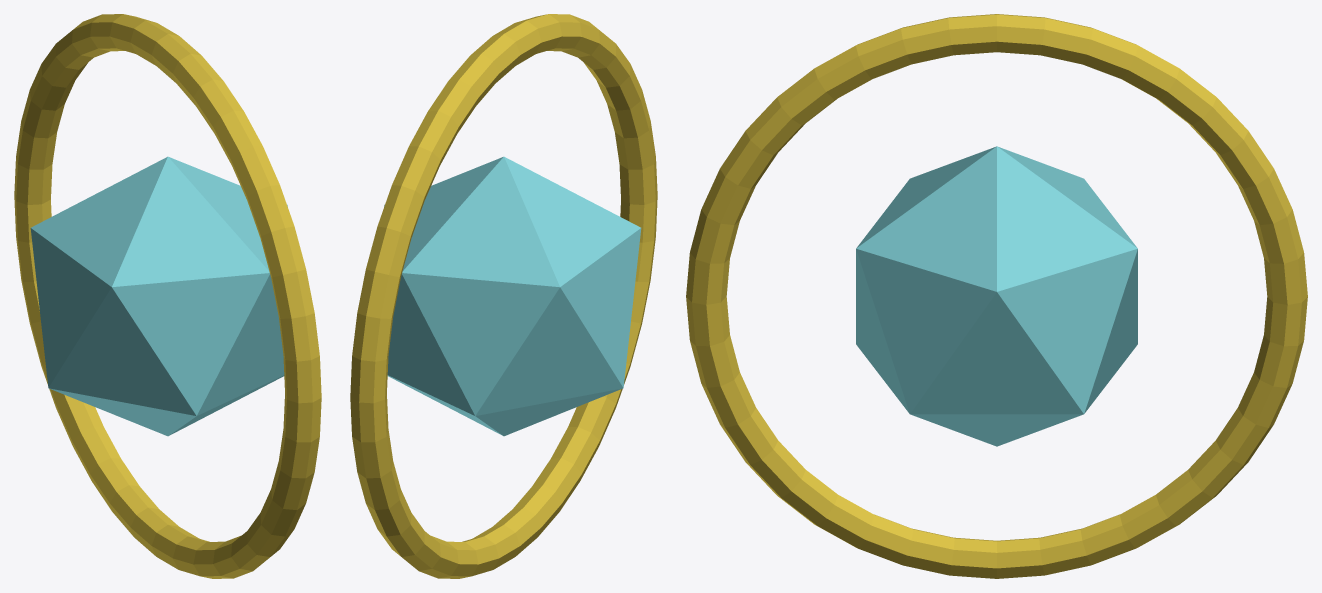
File: comet.gltf
3 views of the same model, side by side, from view 1: azimuth 30°, elevation 25°; view 2: azimuth 150°, elevation 25°; view 3: azimuth 270°, elevation 25° (orthographic). The views are drawn at different scales.
Parts seen in each view (by area): view 1: Torus.006; view 2: Torus.006; view 3: Torus.006.
Part boxes in pixels (x1=…): Torus.006: x1=14, y1=14, x2=321, y2=578; Torus.006: x1=350, y1=14, x2=657, y2=578; Torus.006: x1=686, y1=14, x2=1307, y2=578.
Bounding box in the file's own units: 1.11 × 2.33 × 2.33.
